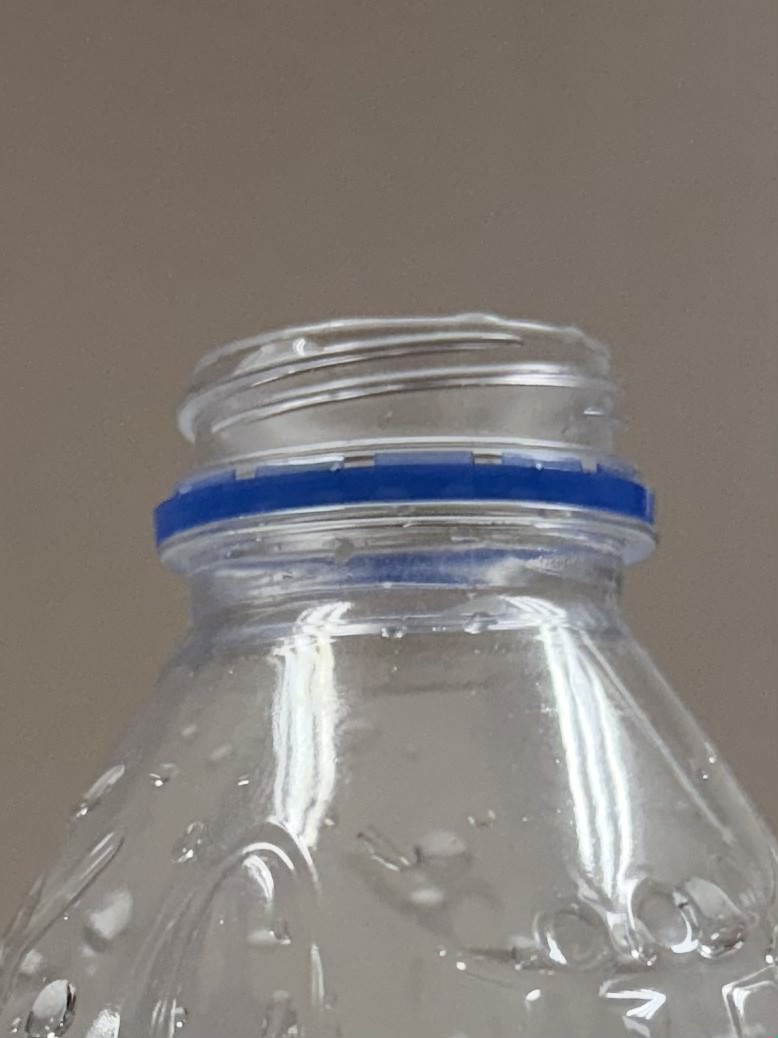no_cap: (146, 304, 666, 613)
